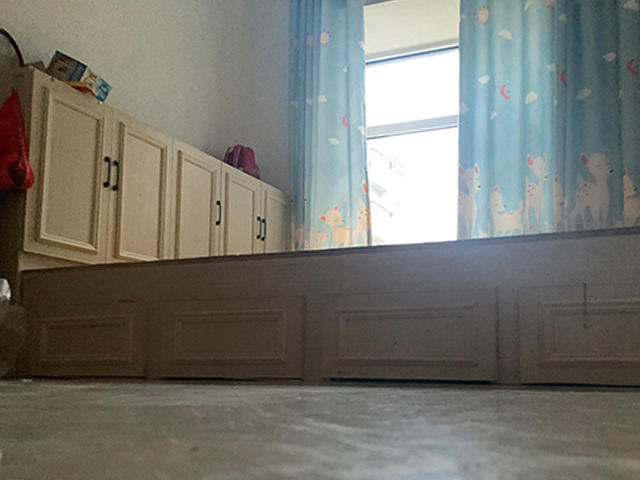bed: (8, 229, 639, 388)
curtain: (456, 1, 639, 236), (289, 3, 374, 244)
